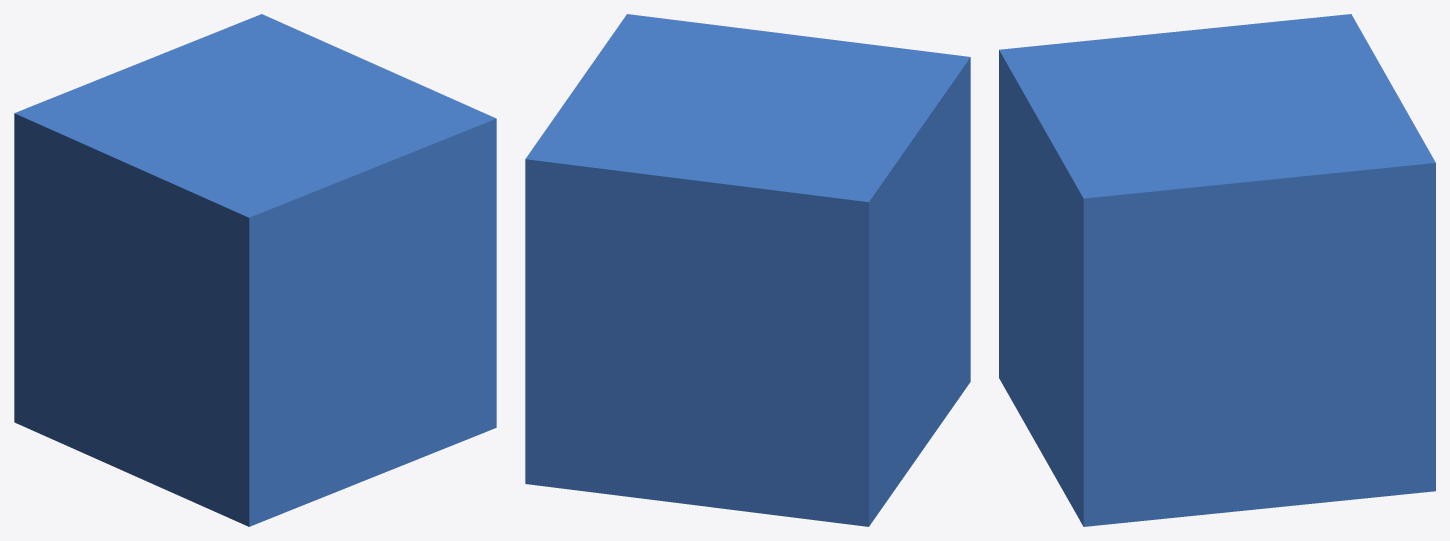
File: solve.glb
The picture shows the model from 3 angles, left to right: view 1: azimuth 30°, elevation 25°; view 2: azimuth 150°, elevation 25°; view 3: azimuth 270°, elevation 25°; orthographic projection. The views are drawn at different scales.
Visible parts, largest first — view 1: Box; view 2: Box; view 3: Box.
Boxes of the visible parts, x1,y1,x2,y2 form: Box: [14, 14, 496, 526]; Box: [525, 14, 970, 526]; Box: [999, 14, 1435, 526].
Size of what is drawn, in the model's own units: 0.9646 by 0.8 by 0.9646.
